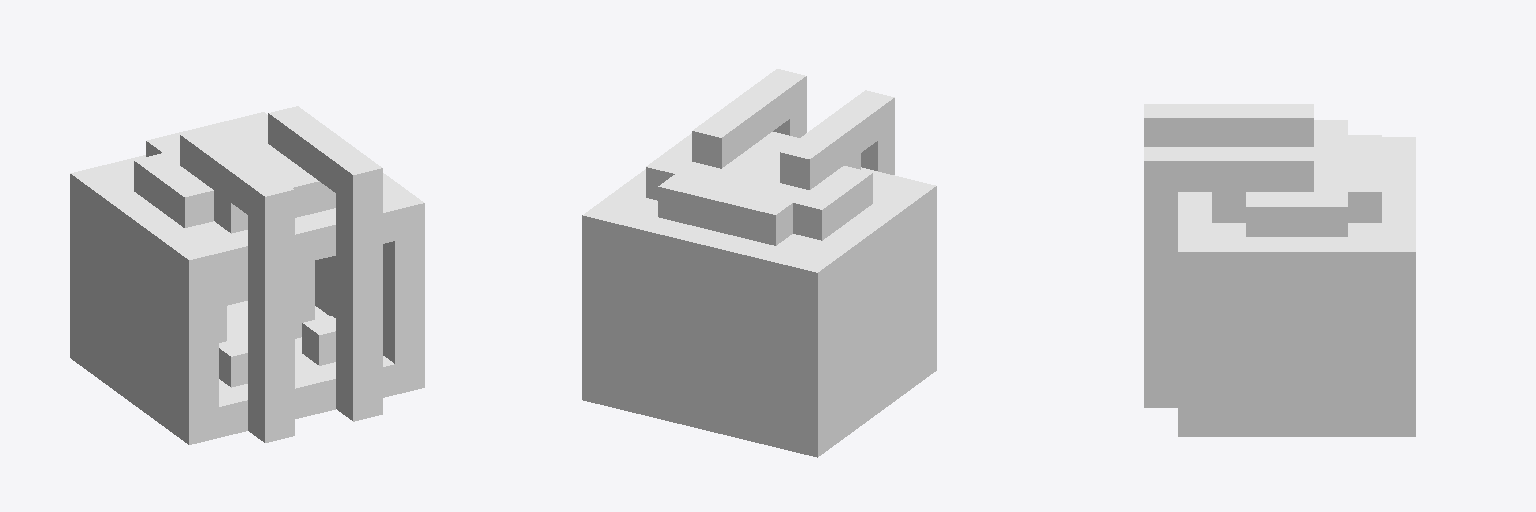
Rendered from Electrolyte.obj.
3 views of the same model, side by side, from view 1: azimuth 30°, elevation 25°; view 2: azimuth 150°, elevation 25°; view 3: azimuth 270°, elevation 25° (orthographic).
Parts seen in each view (by area): view 1: object 1; view 2: object 1; view 3: object 1.
Part boxes in pixels (left/top/right/bottom): object 1: left=70, top=106, right=424, bottom=444; object 1: left=582, top=69, right=936, bottom=457; object 1: left=1144, top=104, right=1415, bottom=436.
Size of the model in its own units: 0.8 by 0.8 by 0.8.